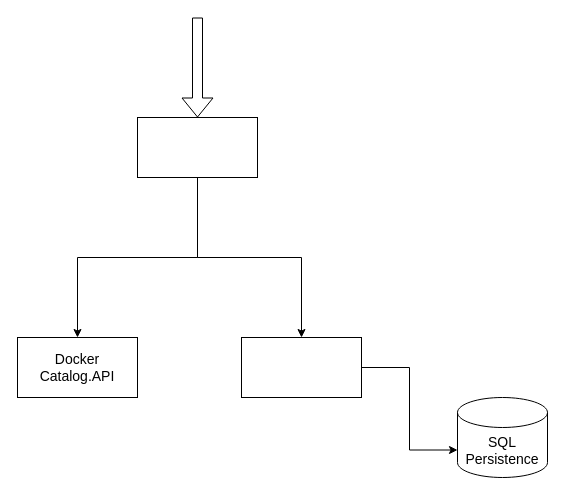
The diagram is 565 pixels wide and 495 high, and some of its shapes have lost their labels. The centre of each missing label's shape, as x and y in pixels:
"Docker Catalog.KO" belongs at point (301, 367).
"NGINX" belongs at point (197, 147).
